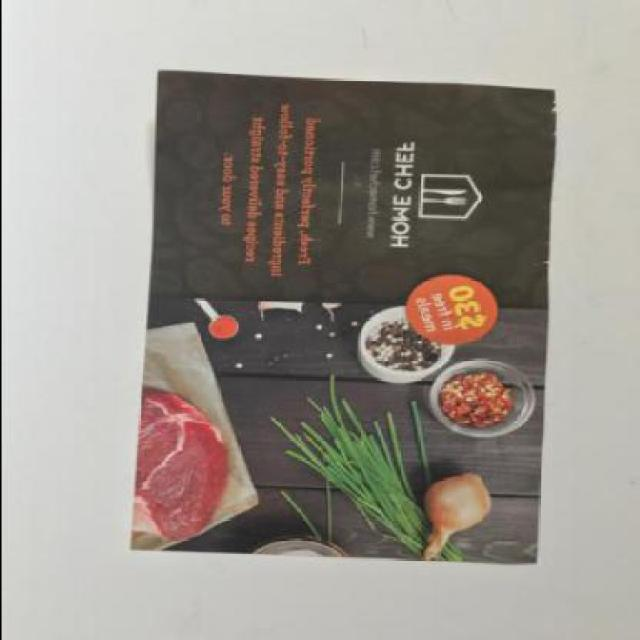PAPER: (126, 69, 554, 562)
